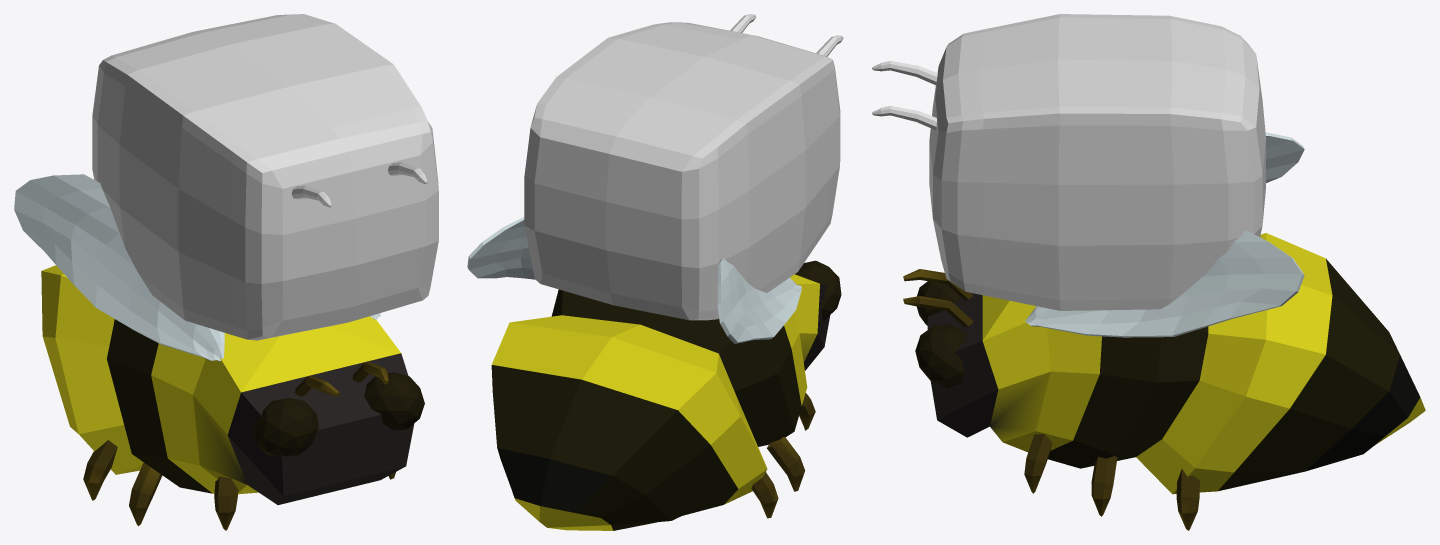
Rendered from AntonioCenarioFase1.fbx_AbelhaOperaria.fbx.
3 views of the same model, side by side, from view 1: azimuth 30°, elevation 25°; view 2: azimuth 150°, elevation 25°; view 3: azimuth 270°, elevation 25° (orthographic). The views are drawn at different scales.
Parts seen in each view (by area): view 1: NovaAbelhaCarpinteiraWIP, AbelhaOperária; view 2: NovaAbelhaCarpinteiraWIP, AbelhaOperária; view 3: NovaAbelhaCarpinteiraWIP, AbelhaOperária.
Part boxes in pixels (left/top/right/bottom): NovaAbelhaCarpinteiraWIP: left=92, top=14, right=438, bottom=340; AbelhaOperária: left=14, top=174, right=424, bottom=530; NovaAbelhaCarpinteiraWIP: left=524, top=14, right=843, bottom=320; AbelhaOperária: left=467, top=217, right=841, bottom=530; NovaAbelhaCarpinteiraWIP: left=872, top=14, right=1265, bottom=310; AbelhaOperária: left=903, top=132, right=1425, bottom=530.
Bounding box in the file's own units: 83.53 × 119 × 144.
